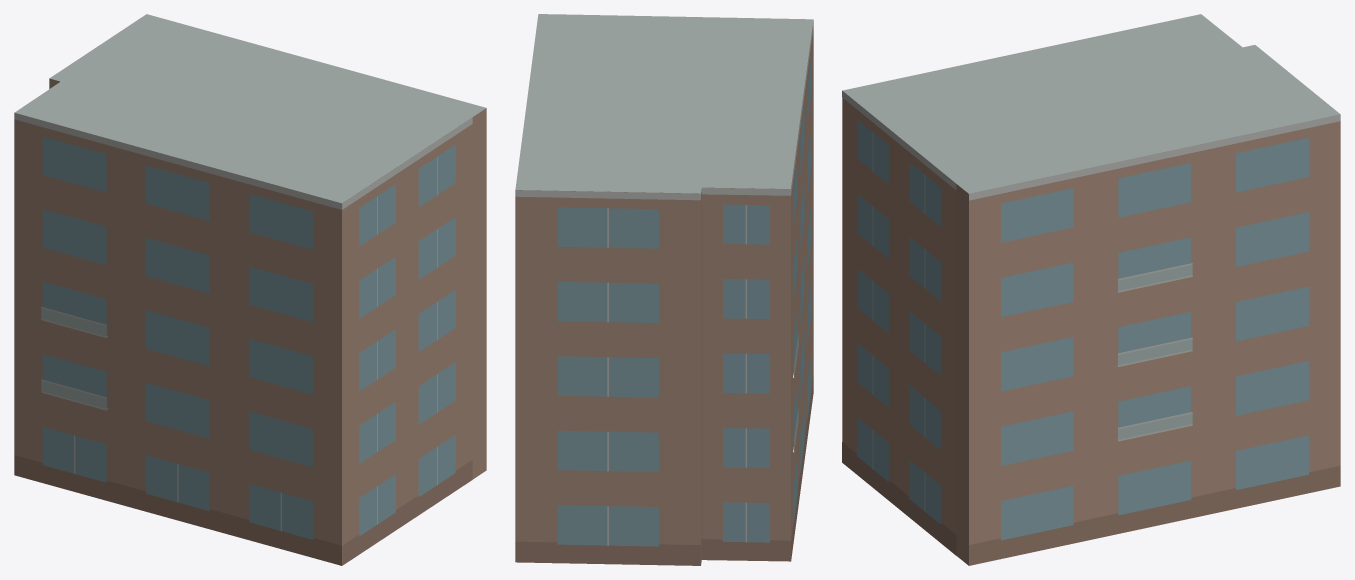
File: survey-upis-32840690.glb
3 views of the same model, side by side, from view 1: azimuth 30°, elevation 25°; view 2: azimuth 150°, elevation 25°; view 3: azimuth 270°, elevation 25° (orthographic). The views are drawn at different scales.
Parts seen in each view (by area): view 1: survey-upis-32840690.tmp; view 2: survey-upis-32840690.tmp; view 3: survey-upis-32840690.tmp.
Part boxes in pixels (x1,y1,x2,y2): survey-upis-32840690.tmp: (14,14,486,565); survey-upis-32840690.tmp: (515,14,813,565); survey-upis-32840690.tmp: (842,14,1340,565).
Bounding box in the file's own units: 13.86 × 13.36 × 16.23.
